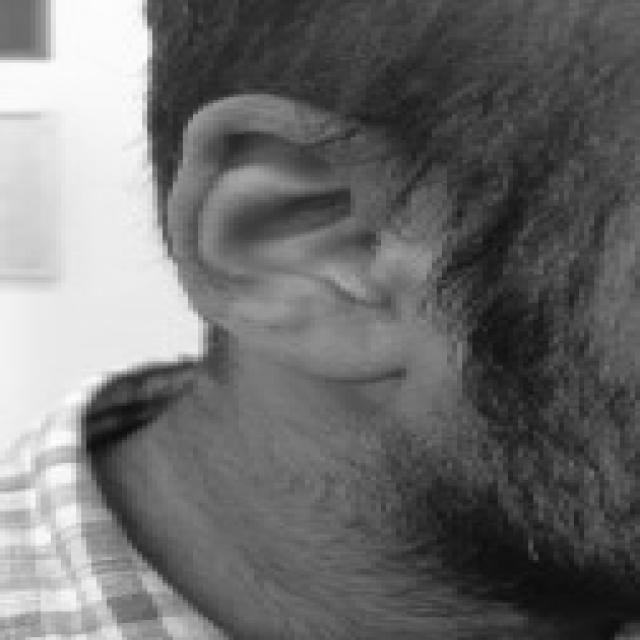ear: (163, 91, 396, 377)
